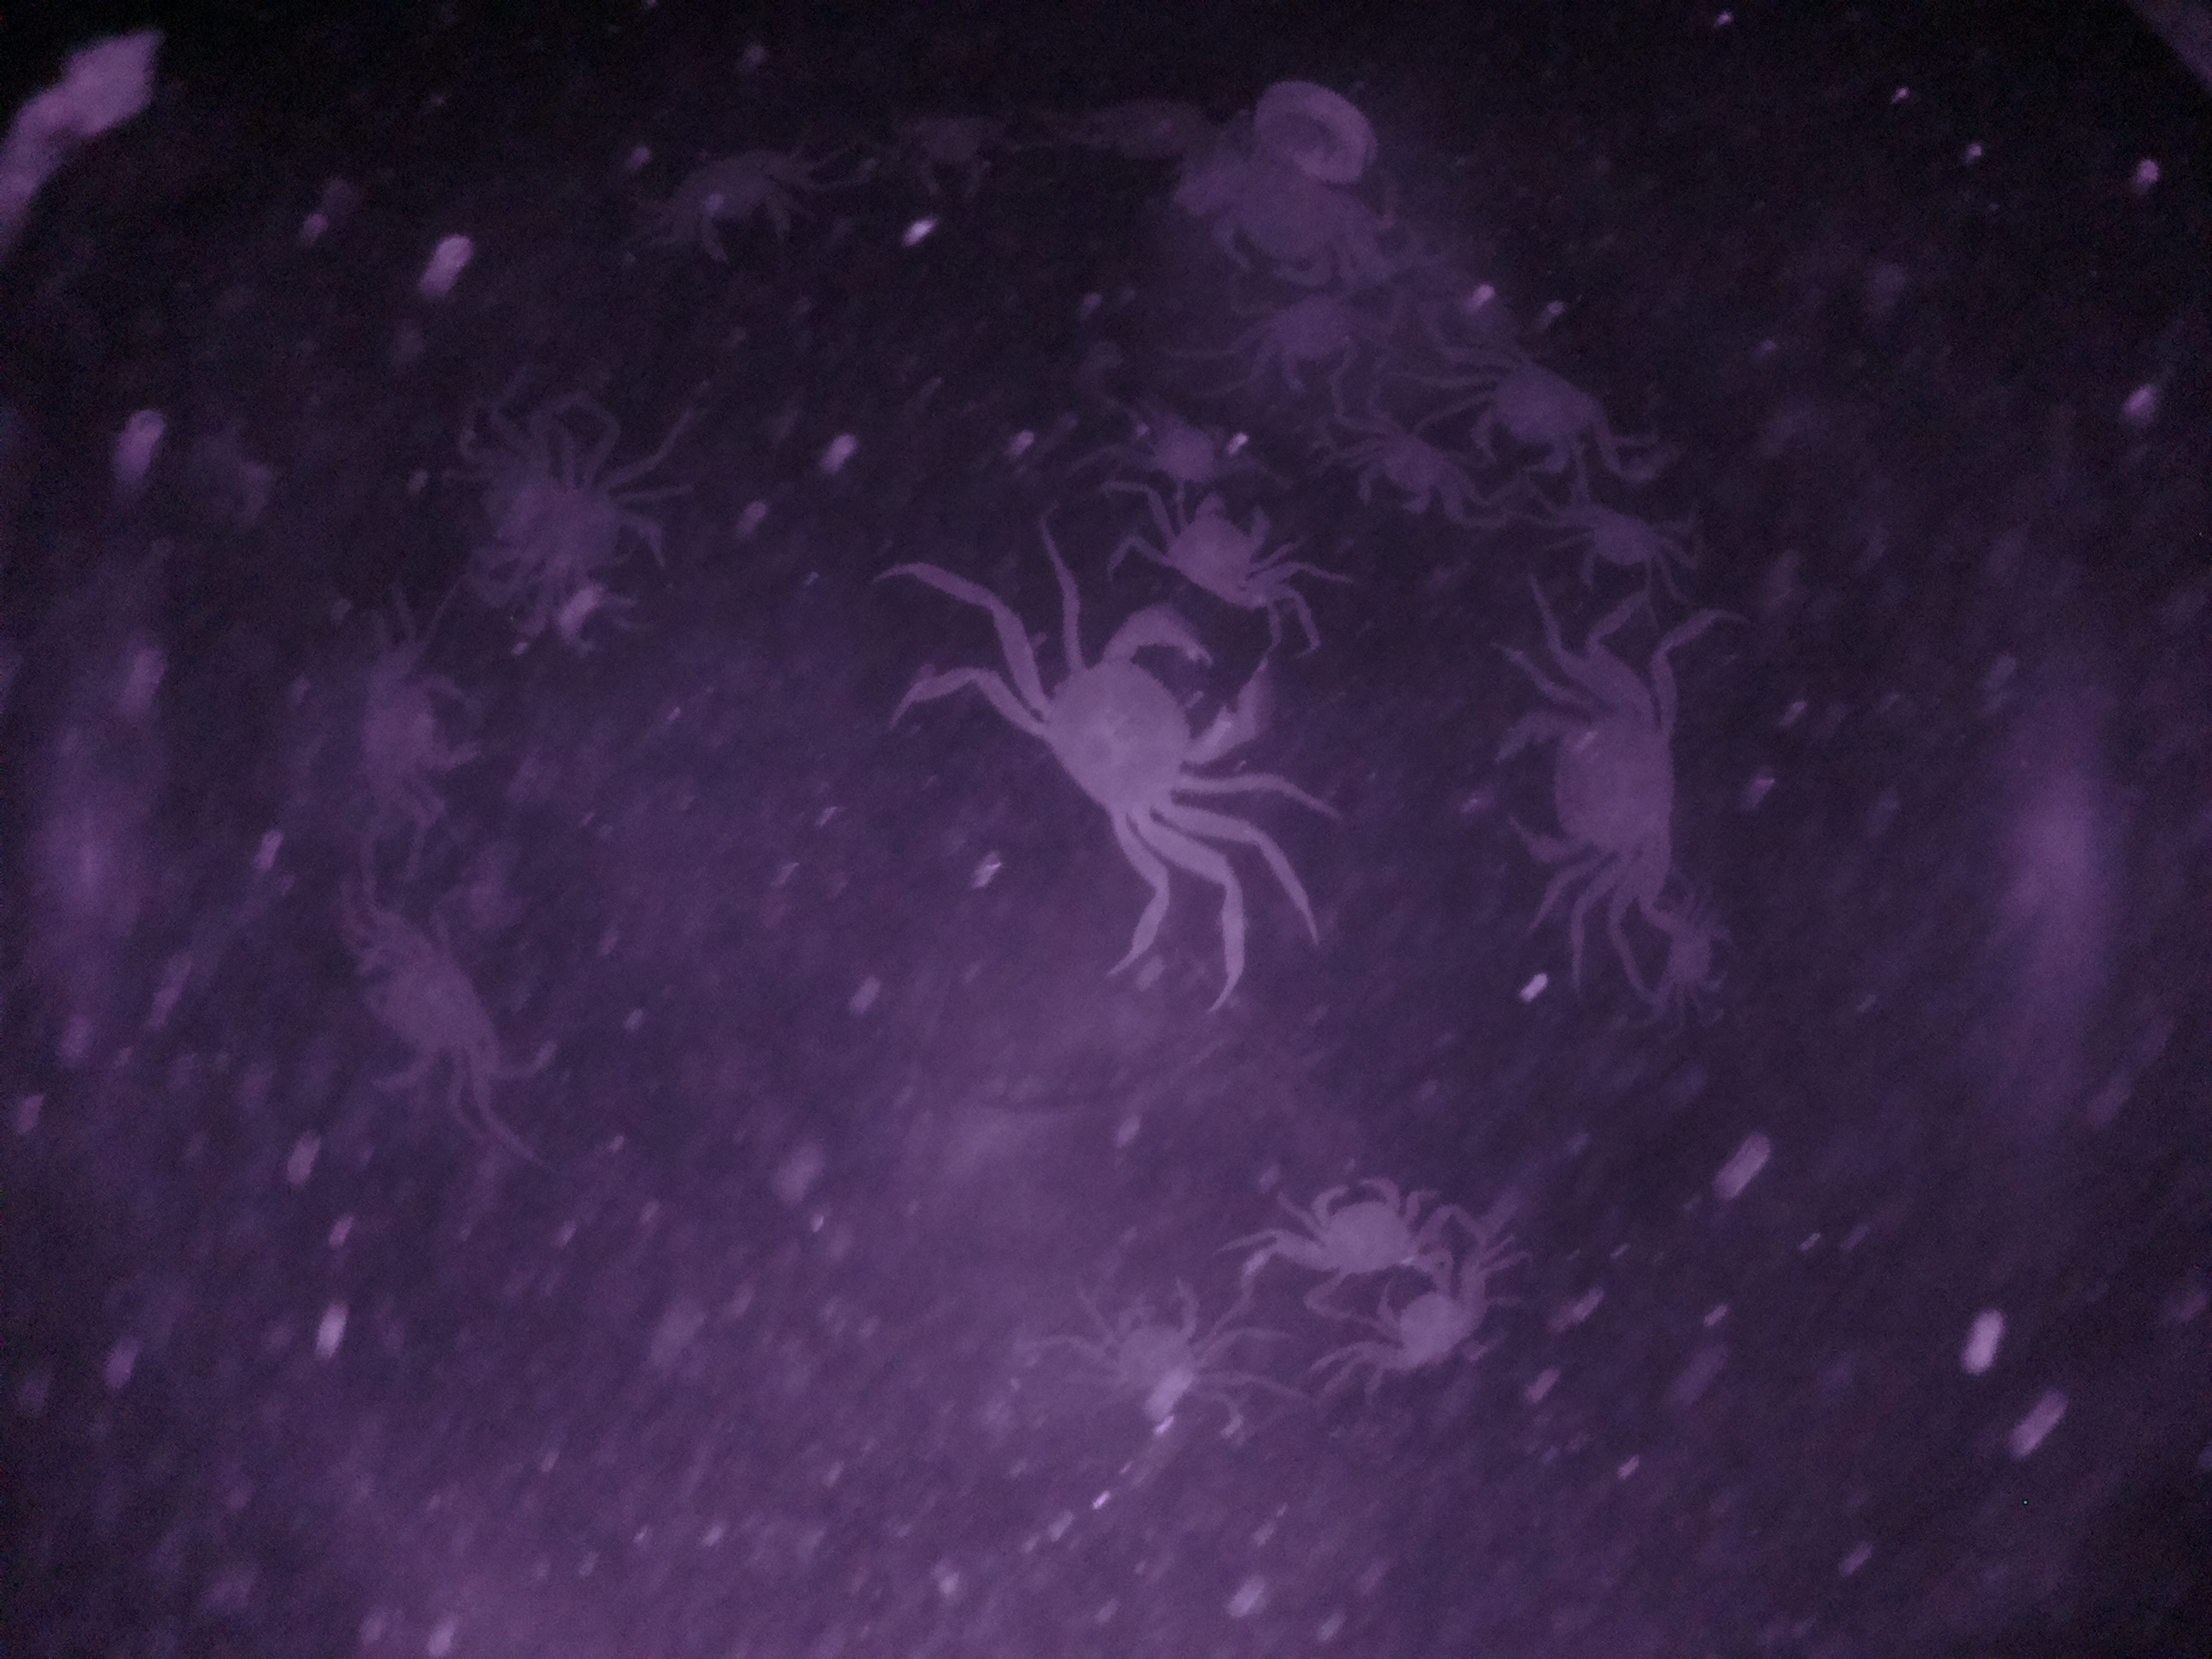Crab: (1012, 610, 1287, 894), (1491, 664, 1689, 924), (1109, 476, 1332, 620), (1446, 343, 1630, 486), (1270, 1164, 1440, 1293), (1359, 1244, 1501, 1398), (1538, 486, 1688, 596)
